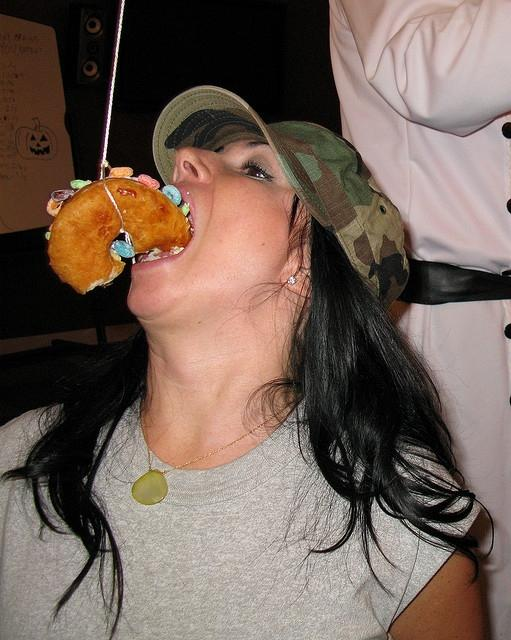pumpkin: (15, 117, 58, 160)
